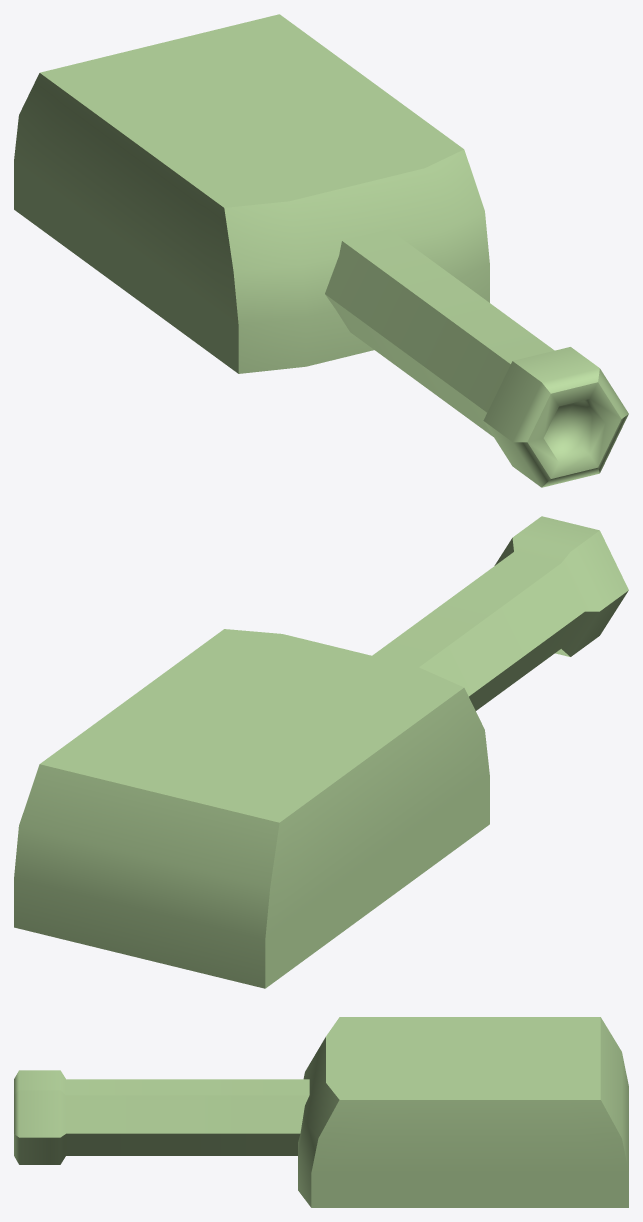
The model's file is TankTop.fbx.
The picture shows the model from 3 angles, top to bottom: view 1: azimuth 30°, elevation 25°; view 2: azimuth 150°, elevation 25°; view 3: azimuth 270°, elevation 25°; orthographic projection. The views are drawn at different scales.
Parts seen in each view (by area): view 1: pCube14; view 2: pCube14; view 3: pCube14.
Boxes of the visible parts, x1,y1,x2,y2 form: pCube14: (14,14,628,487); pCube14: (14,516,628,988); pCube14: (14,1017,628,1207).
Bounding box in the file's own units: 0.7592 × 0.4333 × 2.28.
